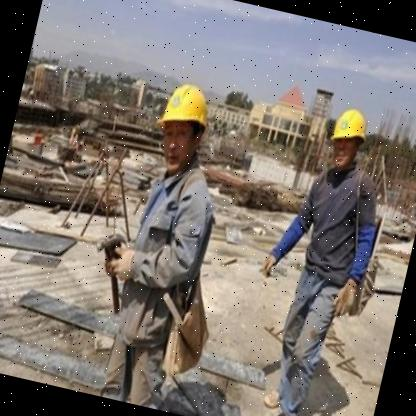bota: (261, 386, 289, 412), (267, 403, 298, 416)
capacete: (148, 76, 217, 176), (324, 104, 372, 171)
